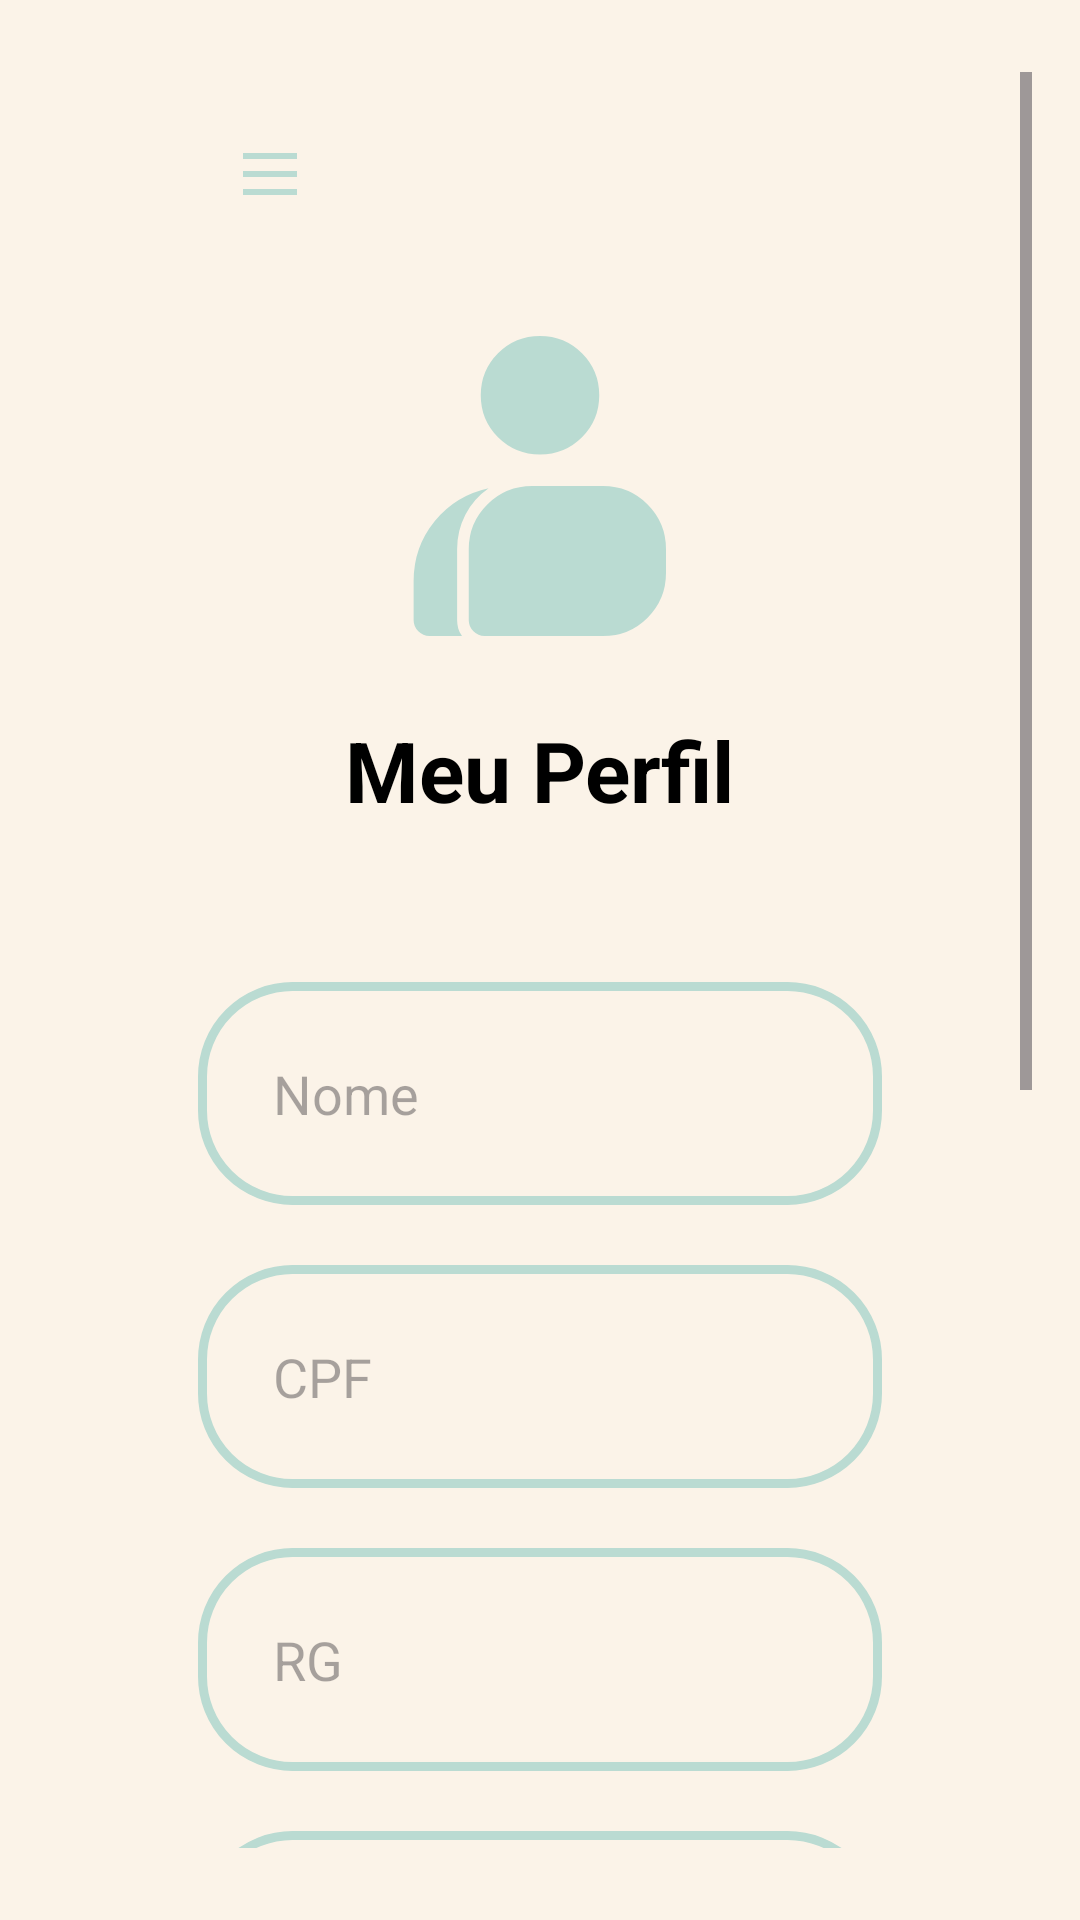

Icon click points for this 1080*1920 phone screenshot, format (x,y):
Abrir menu: (270,174)
